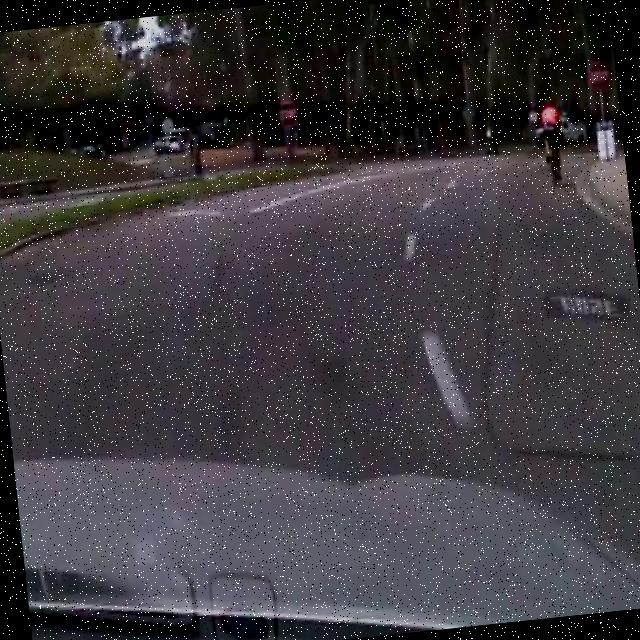Stop: (584, 60, 614, 94)
